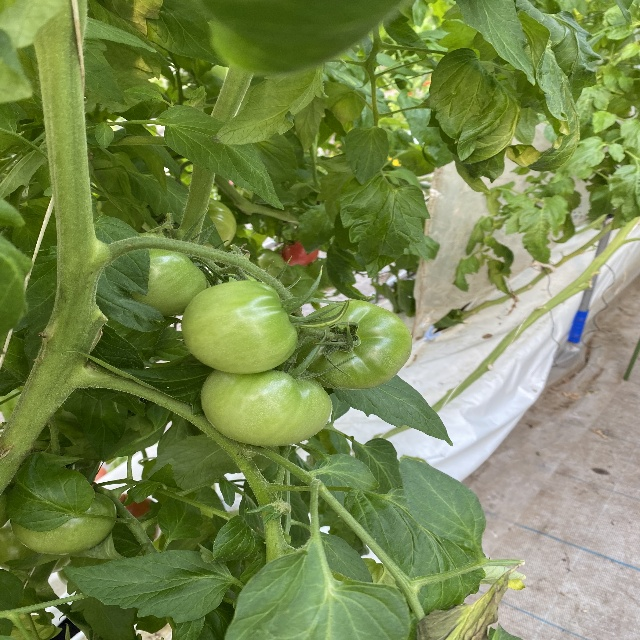b_green: (289, 299, 412, 390), (181, 281, 298, 375), (200, 368, 333, 448), (10, 492, 118, 555), (132, 232, 208, 317), (197, 197, 238, 252)
